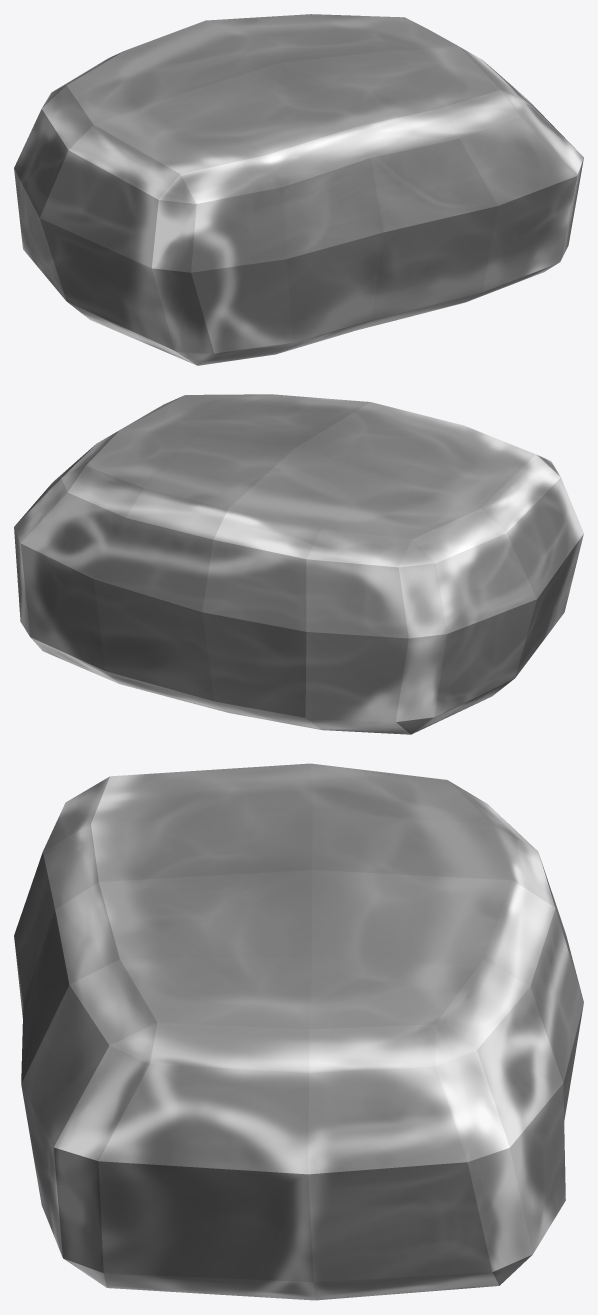
The model's file is roca1.fbx.
The picture shows the model from 3 angles, top to bottom: view 1: azimuth 30°, elevation 25°; view 2: azimuth 150°, elevation 25°; view 3: azimuth 270°, elevation 25°; orthographic projection. The views are drawn at different scales.
Visible parts, largest first — view 1: roca1; view 2: roca1; view 3: roca1.
Boxes of the visible parts, <box> form: roca1: <box>14,14,583,365</box>; roca1: <box>14,394,583,734</box>; roca1: <box>14,763,583,1300</box>.
Size of the model in its own units: 18.59 by 8.11 by 13.31.
